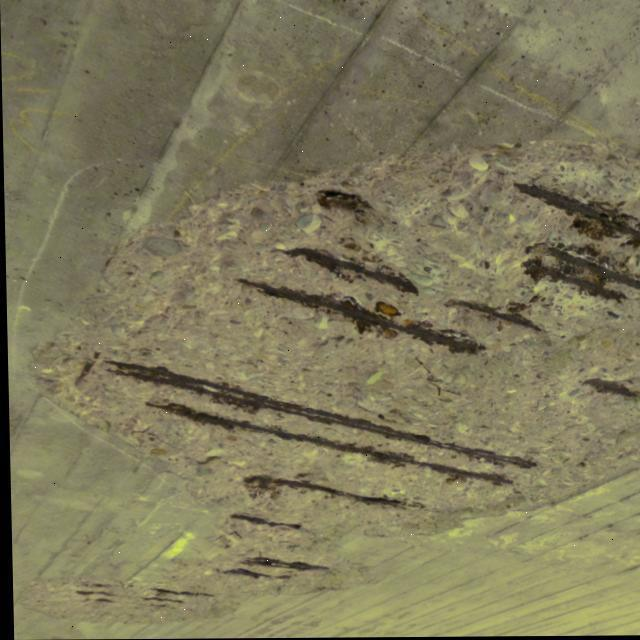D0w0: (38, 145, 625, 604)
